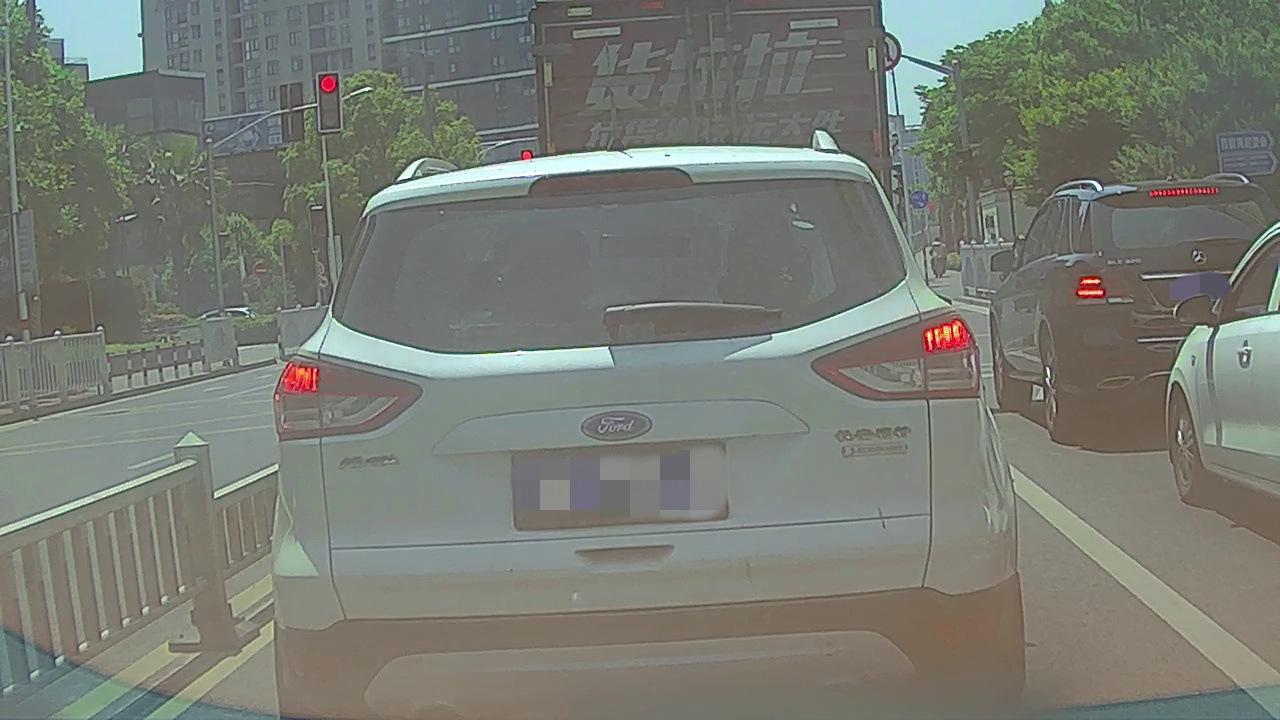traffic_light: (315, 72, 343, 133)
